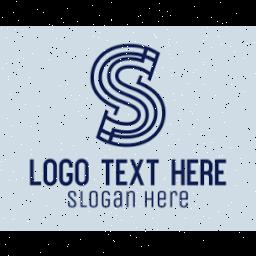e: (116, 158, 128, 186)
g: (60, 157, 74, 187)
h: (166, 157, 186, 187)
l: (28, 156, 44, 188)
o: (74, 157, 90, 187)
r: (198, 158, 214, 186)
t: (98, 156, 116, 188)
